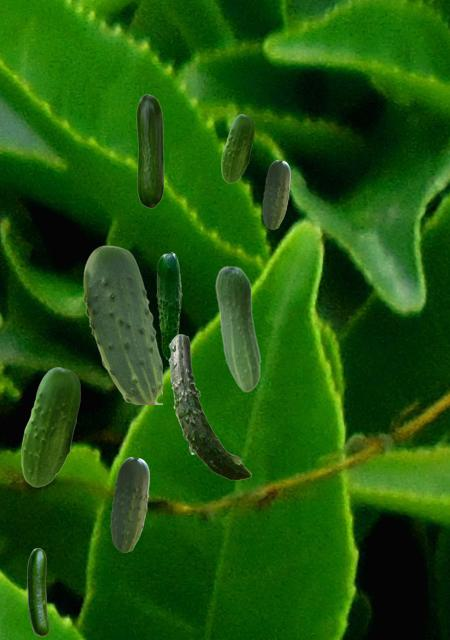cucumber: (83, 245, 161, 403), (168, 334, 250, 479), (21, 367, 79, 486), (215, 265, 260, 391), (110, 457, 148, 551), (136, 94, 163, 207), (156, 252, 181, 358), (221, 114, 253, 182), (262, 160, 289, 228), (27, 548, 48, 635)
